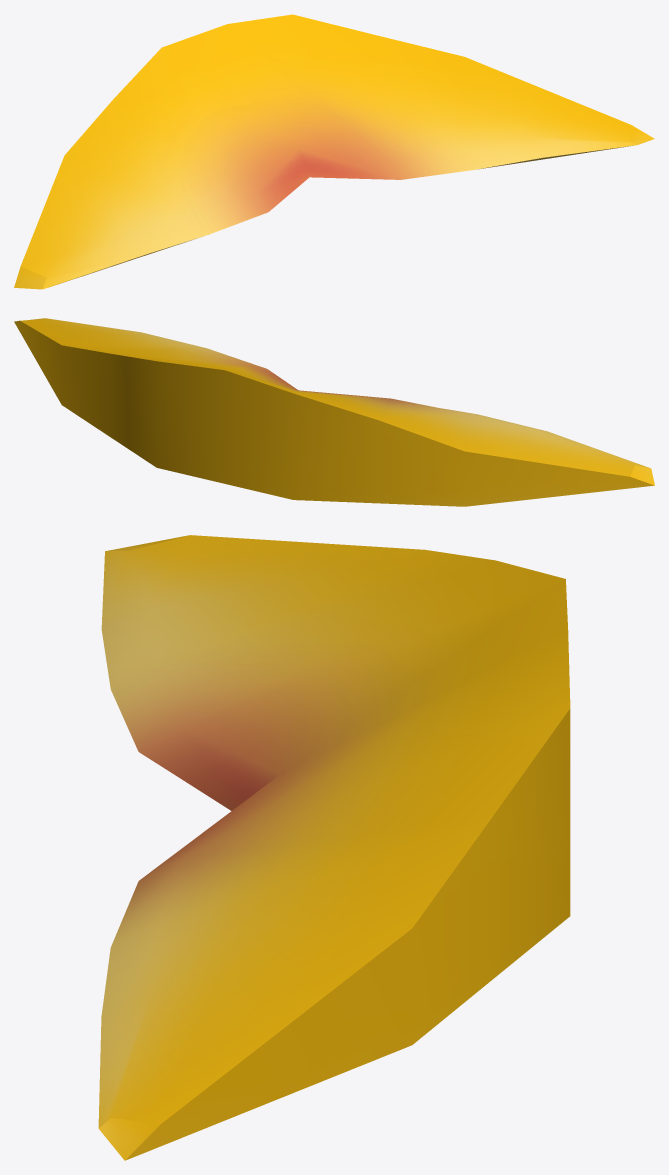
The model's file is h_peach.fbx.
3 renders of one model, top to bottom at view 1: azimuth 30°, elevation 25°; view 2: azimuth 150°, elevation 25°; view 3: azimuth 270°, elevation 25°, orthographic. The views are drawn at different scales.
Visible parts, largest first — view 1: Box001; view 2: Box001; view 3: Box001.
Part boxes in pixels (left/top/right/bottom): Box001: left=14, top=14, right=654, bottom=289; Box001: left=14, top=318, right=654, bottom=506; Box001: left=98, top=535, right=570, bottom=1160.
Bounding box in the file's own units: 38.32 × 6.42 × 12.36.
Materials: 1 (1 with a texture image).
